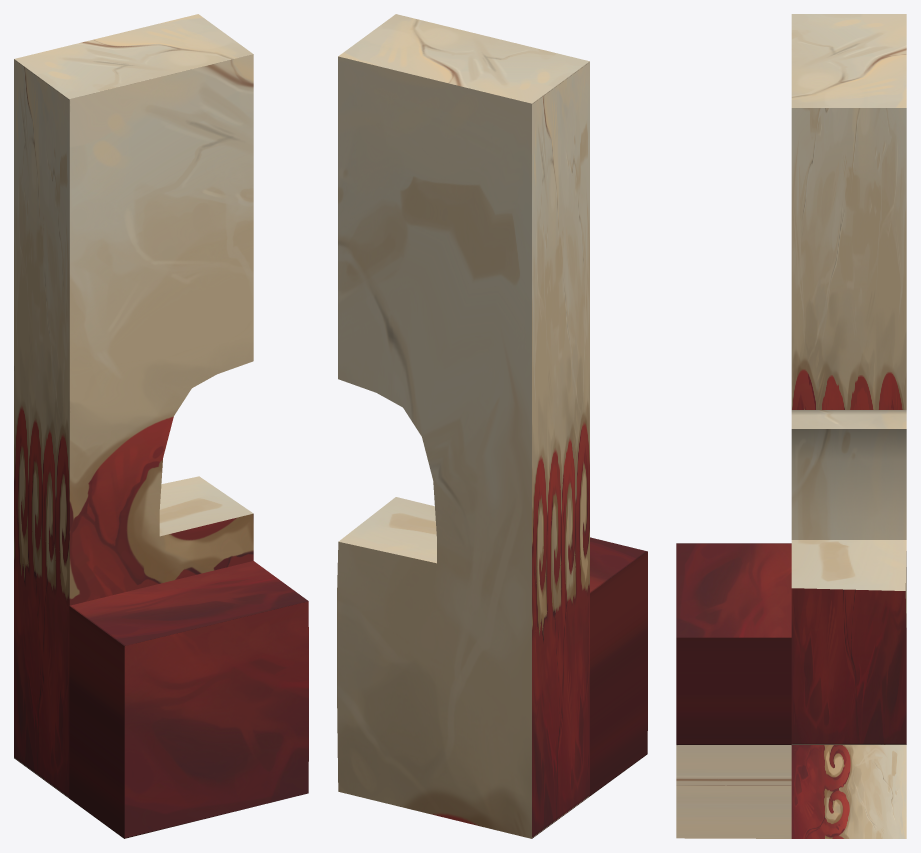
The model's file is mini_fenetre1.fbx.
The picture shows the model from 3 angles, left to right: view 1: azimuth 30°, elevation 25°; view 2: azimuth 150°, elevation 25°; view 3: azimuth 270°, elevation 25°; orthographic projection. The views are drawn at different scales.
Parts seen in each view (by area): view 1: Box007; view 2: Box007; view 3: Box007.
Part boxes in pixels (left/top/right/bottom): Box007: left=14, top=14, right=308, bottom=838; Box007: left=337, top=14, right=647, bottom=838; Box007: left=676, top=14, right=906, bottom=838.
Bounding box in the file's own units: 485 × 1750 × 500.
